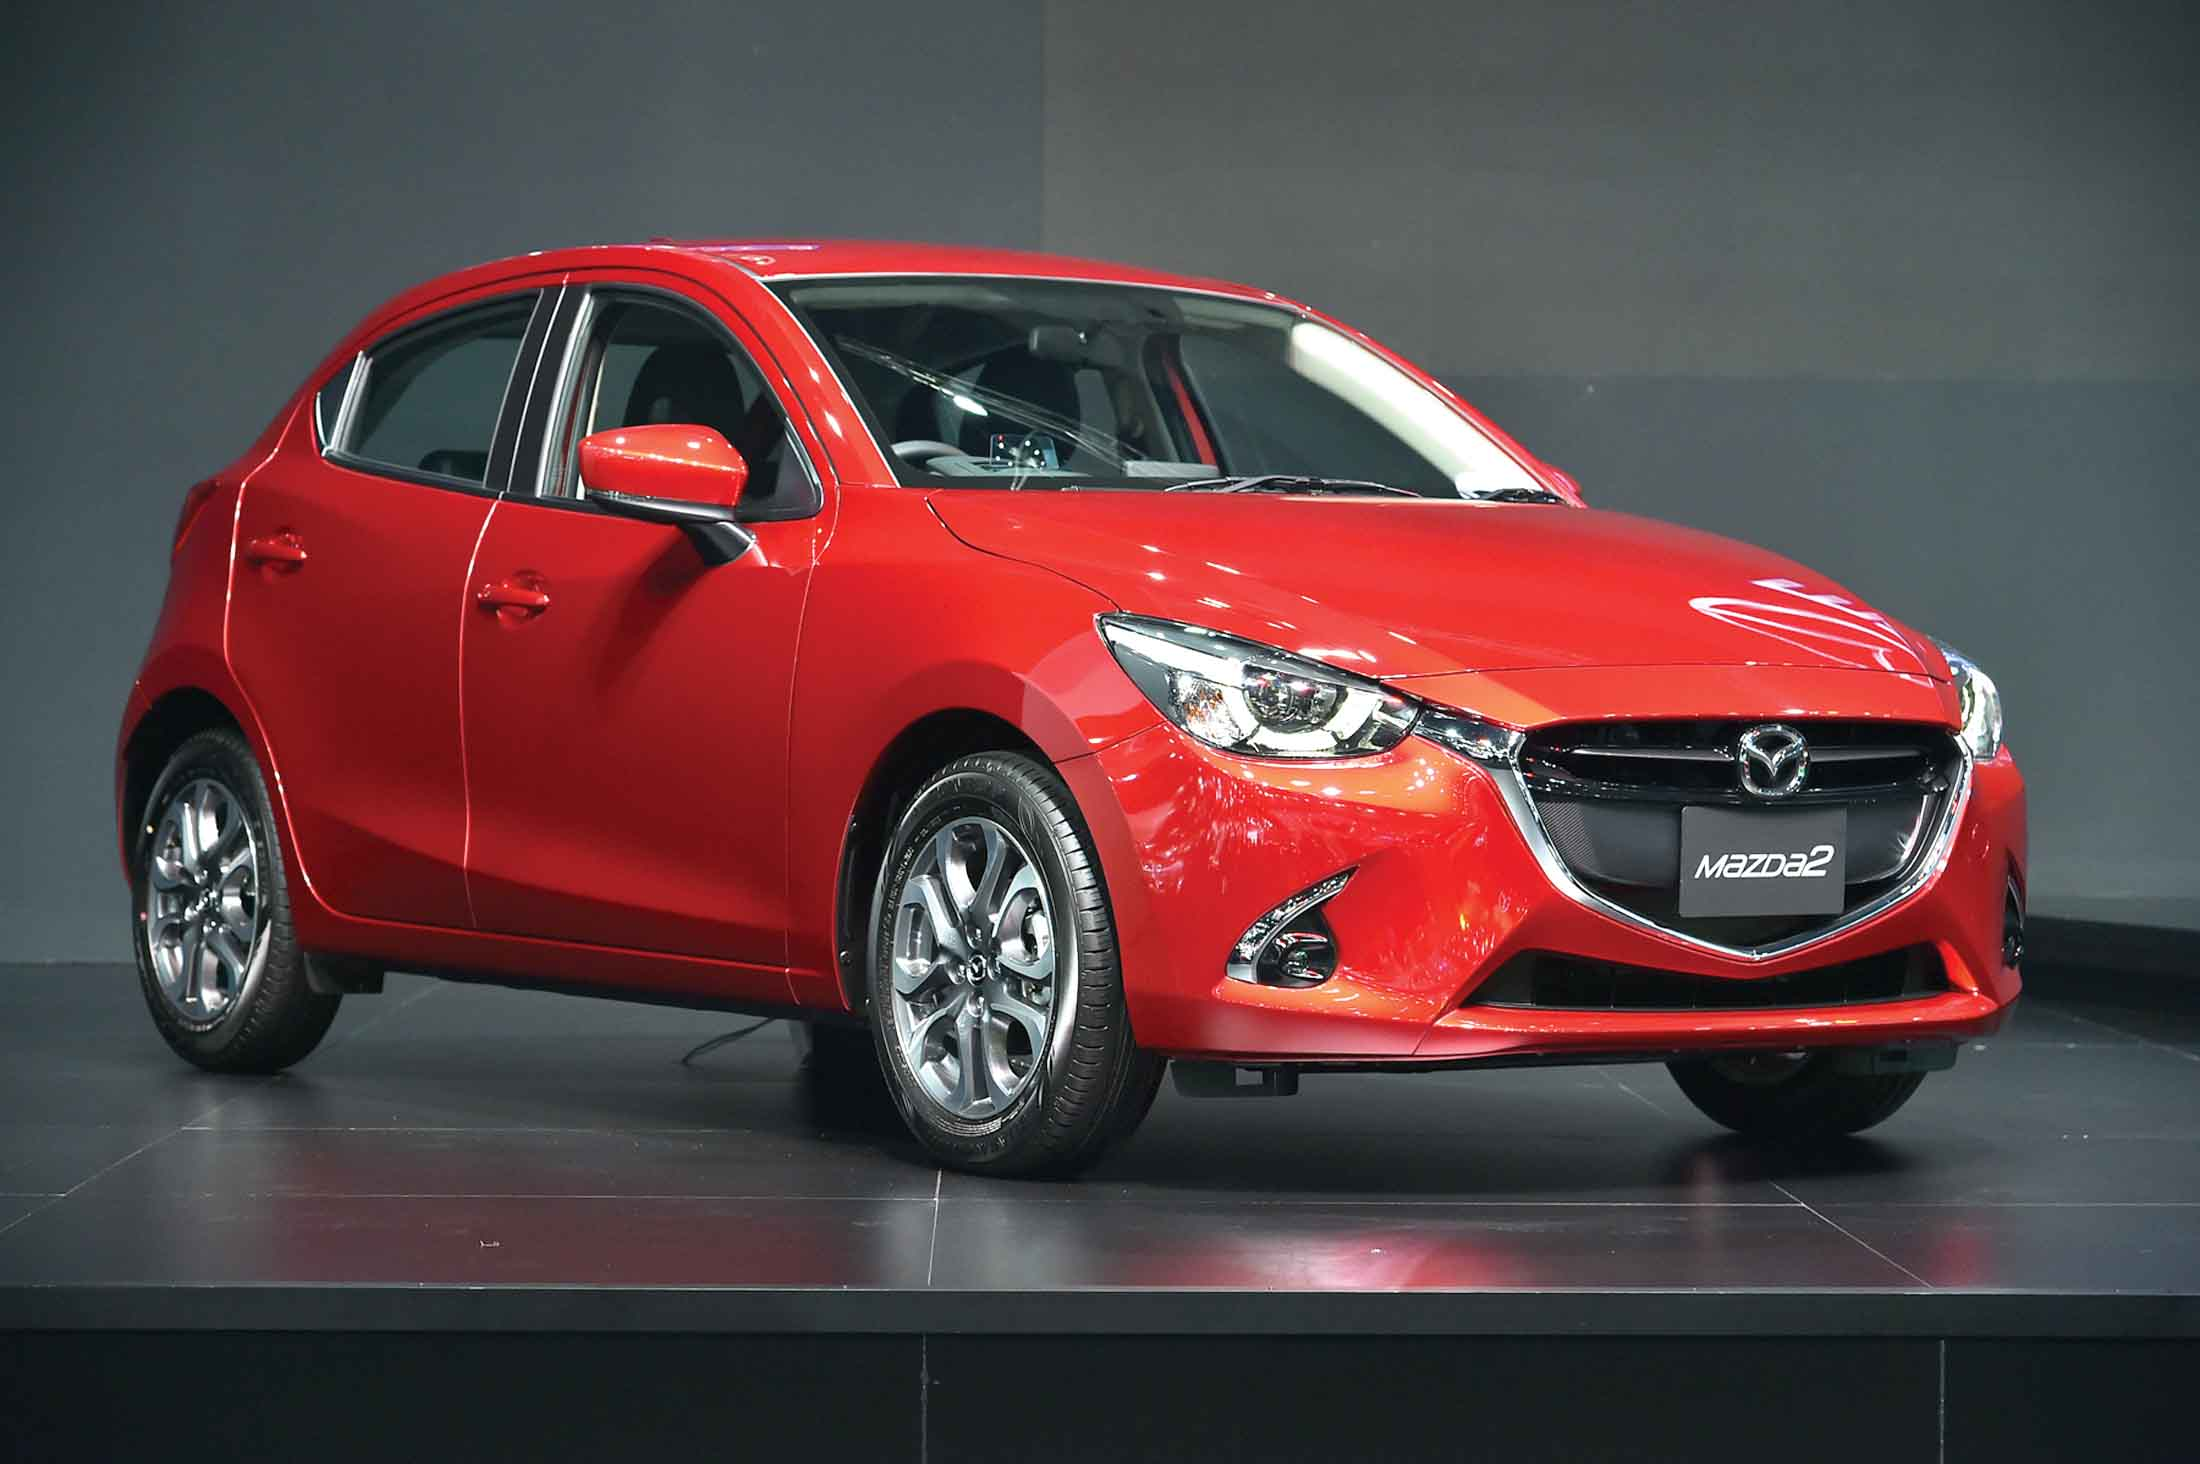sedan: (122, 234, 2032, 1178)
